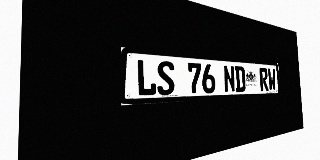6: (202, 64, 216, 94)
7: (187, 63, 202, 94)
D: (234, 66, 246, 92)
L: (136, 59, 157, 96)
N: (223, 65, 235, 93)
R: (259, 68, 269, 91)
S: (157, 60, 175, 96)
W: (267, 68, 276, 91)
